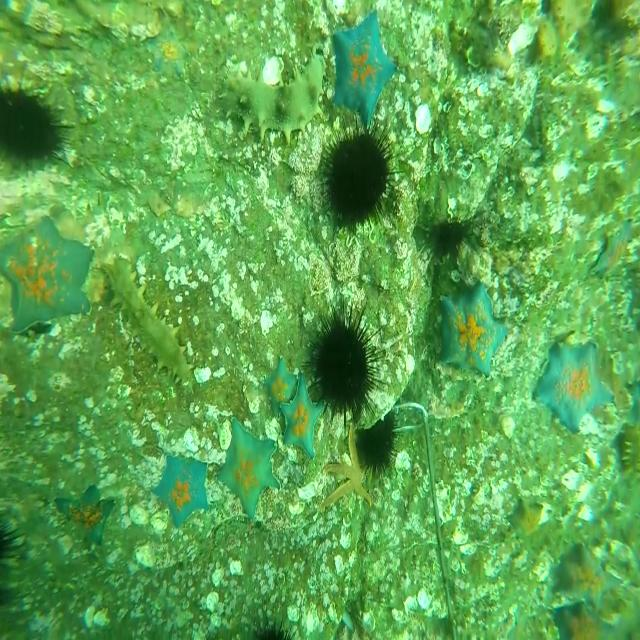echinus: (299, 292, 386, 432), (316, 118, 401, 236), (0, 74, 77, 179), (351, 403, 398, 479)
holothurian: (218, 52, 326, 142)
scallop: (99, 252, 194, 392)
starfish: (0, 210, 95, 333), (330, 6, 401, 130), (533, 335, 615, 434), (219, 412, 279, 518), (442, 282, 508, 376), (154, 450, 211, 524), (56, 483, 115, 550), (565, 539, 619, 612), (278, 375, 320, 462), (149, 22, 194, 85), (592, 225, 632, 287), (506, 494, 547, 542), (263, 354, 295, 413)
